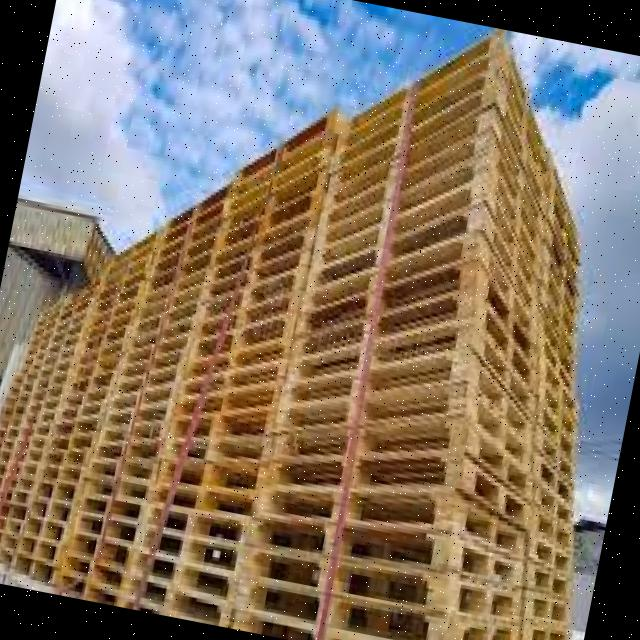Wooden-Pallets: (239, 572, 445, 640), (295, 289, 477, 365), (257, 482, 459, 536), (234, 109, 342, 191), (168, 401, 275, 441)
